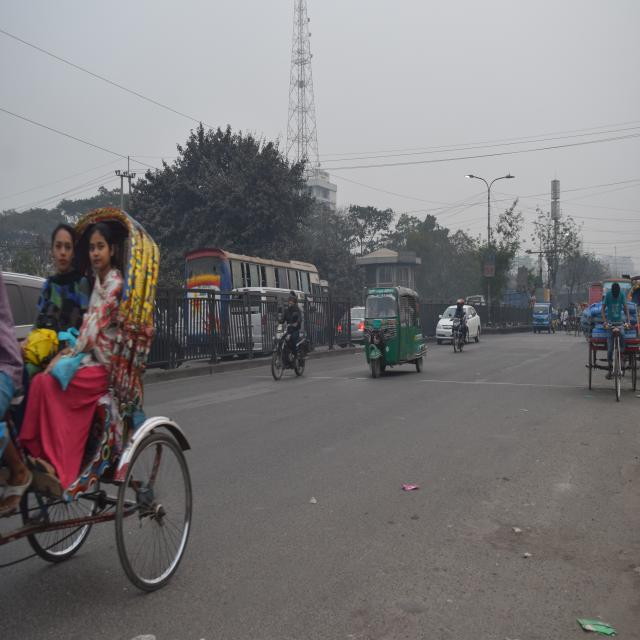car: (435, 300, 482, 348)
motorbike: (264, 304, 312, 379), (448, 303, 469, 360)
pickup-van: (526, 292, 560, 342)
